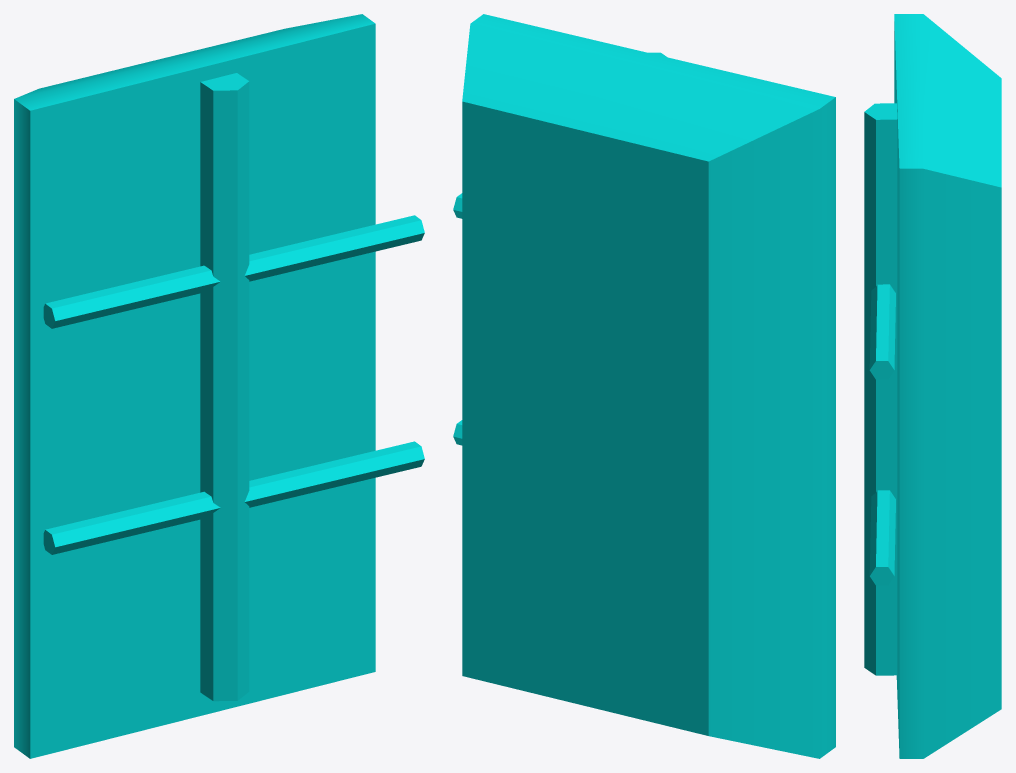
Rendered from SM_Bld_Vault_Door_01_Door_01_Collision.fbx.
3 views of the same model, side by side, from view 1: azimuth 30°, elevation 25°; view 2: azimuth 150°, elevation 25°; view 3: azimuth 270°, elevation 25° (orthographic). The views are drawn at different scales.
Parts seen in each view (by area): view 1: SM_Bld_Vault_Door_01_Door_01_Collision; view 2: SM_Bld_Vault_Door_01_Door_01_Collision; view 3: SM_Bld_Vault_Door_01_Door_01_Collision.
Boxes of the visible parts, x1=… form: SM_Bld_Vault_Door_01_Door_01_Collision: x1=14, y1=14, x2=424, y2=758; SM_Bld_Vault_Door_01_Door_01_Collision: x1=453, y1=14, x2=835, y2=758; SM_Bld_Vault_Door_01_Door_01_Collision: x1=864, y1=14, x2=1001, y2=758.
Size of the model in its own units: 121 by 197 by 41.49.
